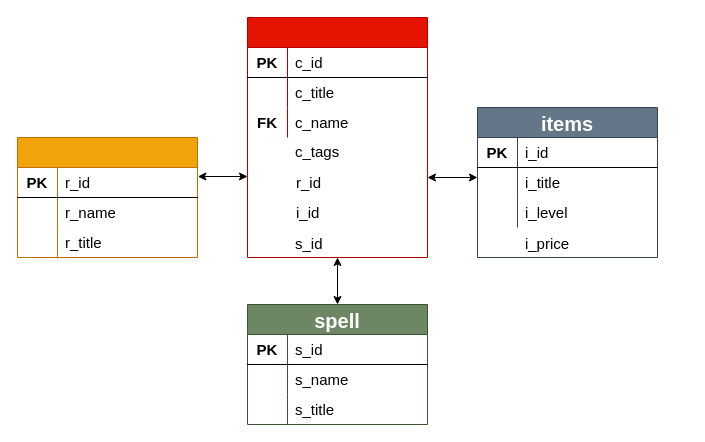
This 705x442 diagram has some shape labels left out. Here are the shapes that lost their labels. From the top down, the box of each, then its label:
(246, 16, 428, 258): champions
(16, 136, 198, 258): runes
